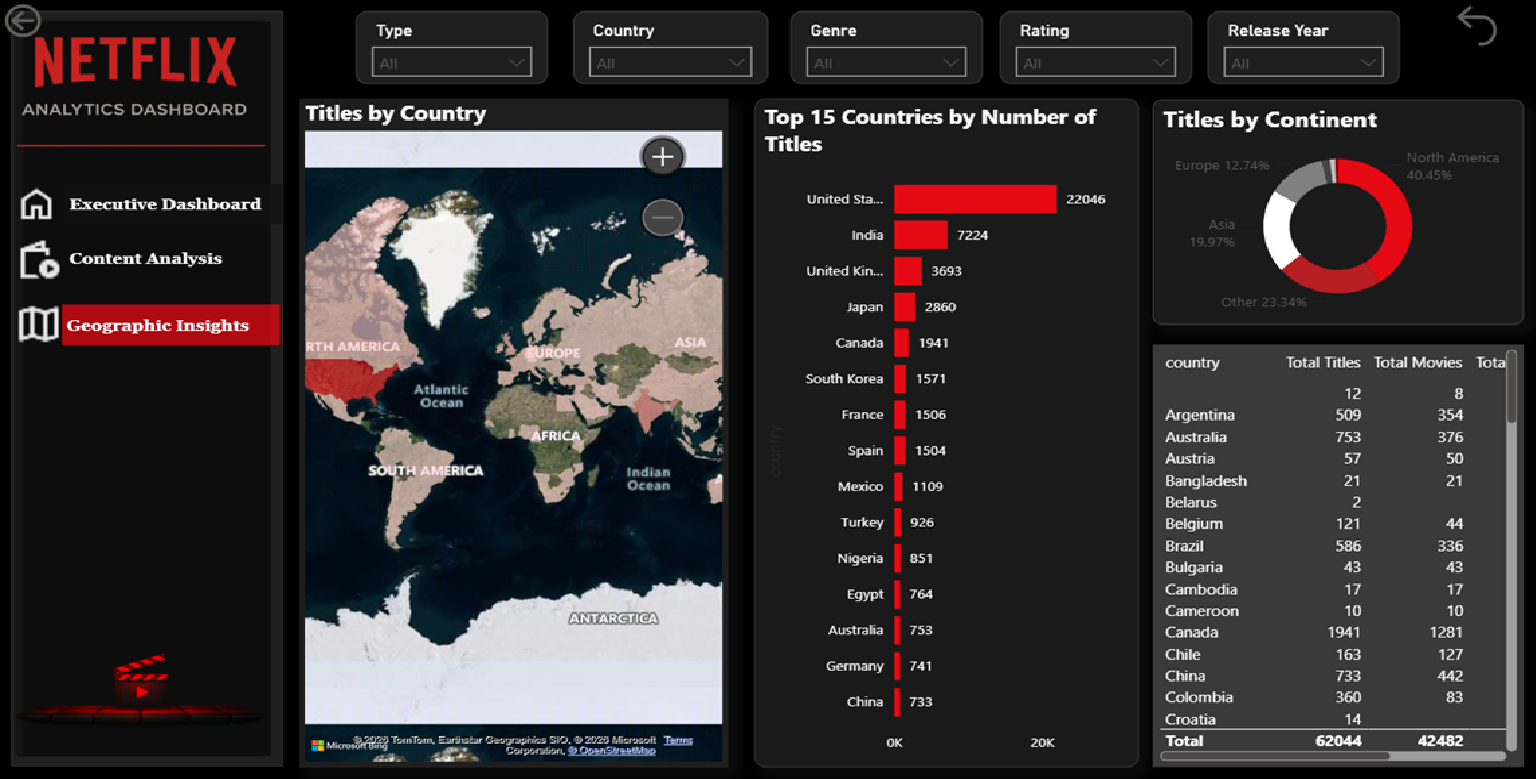

What the dashboard file says about the page in this screenshot:
{"tool":"powerbi","page":{"name":"Geographic Insights","canvas":[1280,720],"ordinal":2},"visuals":[{"type":"shape","box":[10.5,11.6,226.7,695.4],"z":0},{"type":"group","id":"g1","title":"Group 1","box":[10,170,45,90],"z":0,"group":"g2"},{"type":"slicer","fields":{"Values":["netflix.type"]},"box":[297.5,11.2,160,67.5],"z":1000},{"type":"image","box":[11.2,277.5,43.8,45],"z":1000,"group":"g2"},{"type":"slicer","fields":{"Values":["netflix.country"]},"box":[477.5,11.2,162.5,67.5],"z":2000},{"type":"slicer","fields":{"Values":["netflix.rating"]},"box":[832.5,11.2,160,67.5],"z":3000},{"type":"slicer","fields":{"Values":["netflix.Primary Genre"]},"box":[658.8,11.2,160,67.5],"z":4000},{"type":"slicer","fields":{"Values":["netflix.Release Year"]},"box":[1006.2,11.2,160,67.5],"z":5000},{"type":"donutChart","title":"Titles by Continent","fields":{"Category":["netflix.Continent"],"Y":["netflix.Total Titles"]},"box":[960,92.9,308.6,207.1],"z":6000},{"type":"filledMap","title":"Titles by Country","fields":{"Category":["netflix.country"]},"box":[250,91.4,357.1,615.7],"z":7000},{"type":"clusteredBarChart","title":"Top 15 Countries by Number of Titles","fields":{"Y":["netflix.Total Titles"],"Category":["netflix.country"]},"box":[628.6,91.4,320,615.7],"z":8000},{"type":"image","box":[10,11.2,216.2,158.8],"z":9000},{"type":"image","box":[10,592.5,216.2,127.5],"z":10000},{"type":"actionButton","box":[55,170,181.2,37.5],"z":11000},{"type":"actionButton","box":[55,220,181.2,37.5],"z":12000},{"type":"actionButton","box":[52.5,281.2,181.2,37.5],"z":13000},{"type":"group","id":"g2","title":"Group 2","box":[10,170,45,152.5],"z":14000},{"type":"actionButton","box":[1206.2,0,73.8,48.8],"z":15000},{"type":"actionButton","box":[0,0,100,40],"z":16000},{"type":"image","box":[10,170,42.5,37.5],"z":16000,"group":"g1"},{"type":"tableEx","fields":{"Values":["netflix.country","netflix.Total Titles","netflix.Total Movies","netflix.Total TV Shows","netflix.TV Show %"]},"box":[960,318.6,308.6,388.6],"z":17000},{"type":"image","box":[12.5,218.8,42.5,41.2],"z":17001,"group":"g1"}]}

Visuals, with their boxes on the page's 1280x720 design canvas (x1, y1, x2, y2). These are canvas units, not pixel positions in the 1536x779 screenshot, which may show the page scaled, cropped or inside an application window:
shape: locate(10, 12, 237, 707)
"Group 1" group: locate(10, 170, 55, 260)
slicer - netflix.type: locate(298, 11, 458, 79)
image: locate(11, 278, 55, 322)
slicer - netflix.country: locate(478, 11, 640, 79)
slicer - netflix.rating: locate(832, 11, 992, 79)
slicer - netflix.Primary Genre: locate(659, 11, 819, 79)
slicer - netflix.Release Year: locate(1006, 11, 1166, 79)
"Titles by Continent" donutChart: locate(960, 93, 1269, 300)
"Titles by Country" filledMap: locate(250, 91, 607, 707)
"Top 15 Countries by Number of Titles" clusteredBarChart: locate(629, 91, 949, 707)
image: locate(10, 11, 226, 170)
image: locate(10, 592, 226, 720)
actionButton: locate(55, 170, 236, 208)
actionButton: locate(55, 220, 236, 258)
actionButton: locate(52, 281, 234, 319)
"Group 2" group: locate(10, 170, 55, 322)
actionButton: locate(1206, 0, 1280, 49)
actionButton: locate(0, 0, 100, 40)
image: locate(10, 170, 52, 208)
tableEx - netflix.country x netflix.Total Titles: locate(960, 319, 1269, 707)
image: locate(12, 219, 55, 260)
